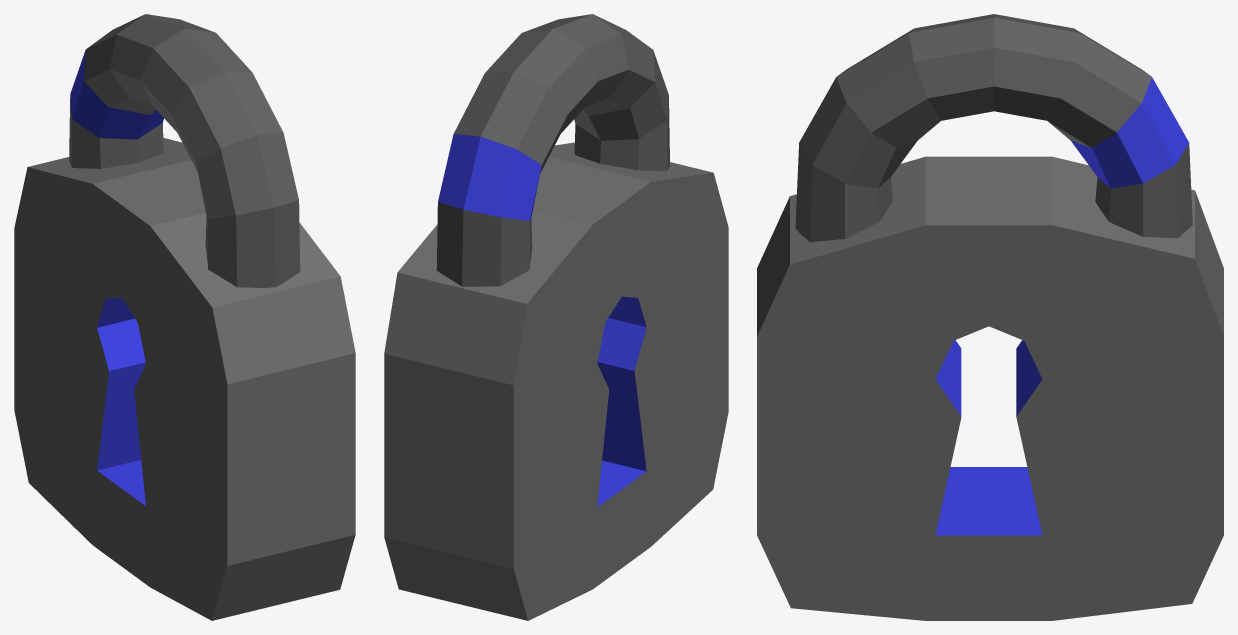
File: CandadoAzul.fbx
3 renders of one model, left to right at view 1: azimuth 30°, elevation 25°; view 2: azimuth 150°, elevation 25°; view 3: azimuth 270°, elevation 25°, orthographic. The views are drawn at different scales.
Parts seen in each view (by area): view 1: Cube.001; view 2: Cube.001; view 3: Cube.001.
Boxes of the visible parts, bbox=[...] form: Cube.001: bbox=[14, 14, 355, 620]; Cube.001: bbox=[384, 14, 728, 620]; Cube.001: bbox=[757, 14, 1223, 620].
Bounding box in the file's own units: 5.96 × 23.12 × 17.16.
